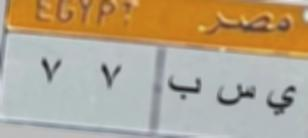7: (37, 54, 66, 89), (96, 58, 122, 93)
baa: (165, 70, 203, 106)
seen: (215, 80, 257, 110)
yaa: (265, 82, 300, 122)
